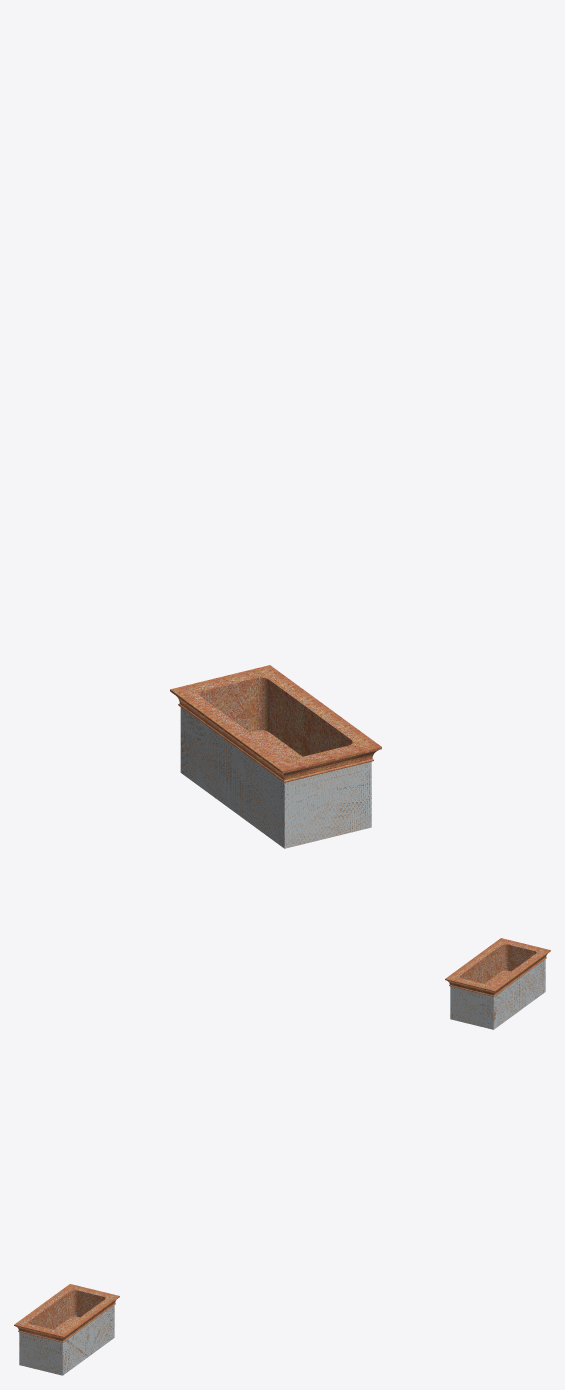
Rendered from mormant3.fbx.
3 renders of one model, top to bottom at view 1: azimuth 30°, elevation 25°; view 2: azimuth 150°, elevation 25°; view 3: azimuth 330°, elevation 25°, orthographic. The views are drawn at different scales.
Visible parts, largest first — view 1: SketchUp.005, SketchUp.001, SketchUp, SketchUp.002; view 2: SketchUp.005, SketchUp.001, SketchUp, SketchUp.002; view 3: SketchUp.005, SketchUp.001, SketchUp, SketchUp.002.
Part boxes in pixels (x1,y1,x2,y2): SketchUp.005: [180, 707, 371, 848]; SketchUp.001: [199, 677, 352, 758]; SketchUp: [170, 665, 381, 782]; SketchUp.002: [181, 669, 370, 766]; SketchUp.005: [450, 959, 545, 1029]; SketchUp.001: [460, 944, 536, 984]; SketchUp: [445, 938, 550, 996]; SketchUp.002: [450, 940, 544, 988]; SketchUp.005: [19, 1305, 114, 1375]; SketchUp.001: [28, 1290, 104, 1330]; SketchUp: [14, 1284, 119, 1342]; SketchUp.002: [19, 1286, 114, 1334].
Bounding box in the file's own units: 767 × 442 × 1779.
Materials: 10 (7 with a texture image).
